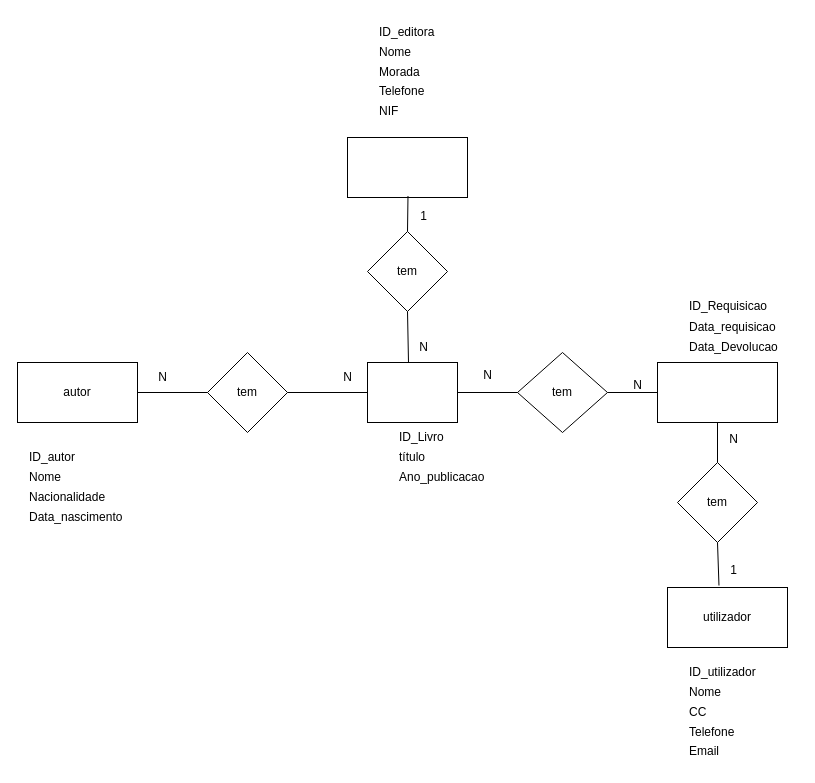
Some shapes in this 815 by 783 pixel diagram are drawn without their labels. Each missing label, with the centre of its shape:
editora: the point at 407,167
livro: the point at 412,392
requisicao: the point at 717,392
